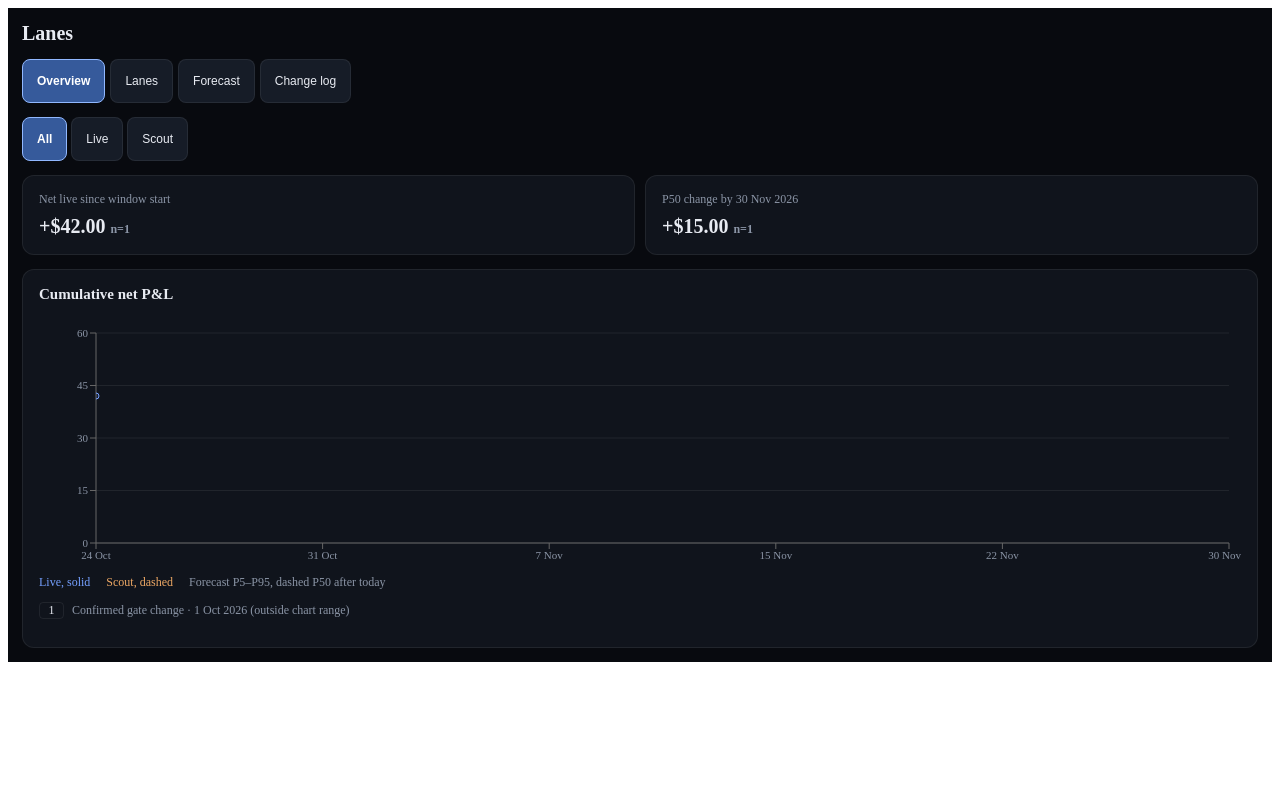
Test: LanePerformanceView › renders forecast and change log subviews, including empty snapshots
This screenshot has width=1280, height=800.
What coordinates should you click on to do the following:
click the button "Forecast"
I would click on:
 (216, 81)
Its box is [178, 59, 255, 103].
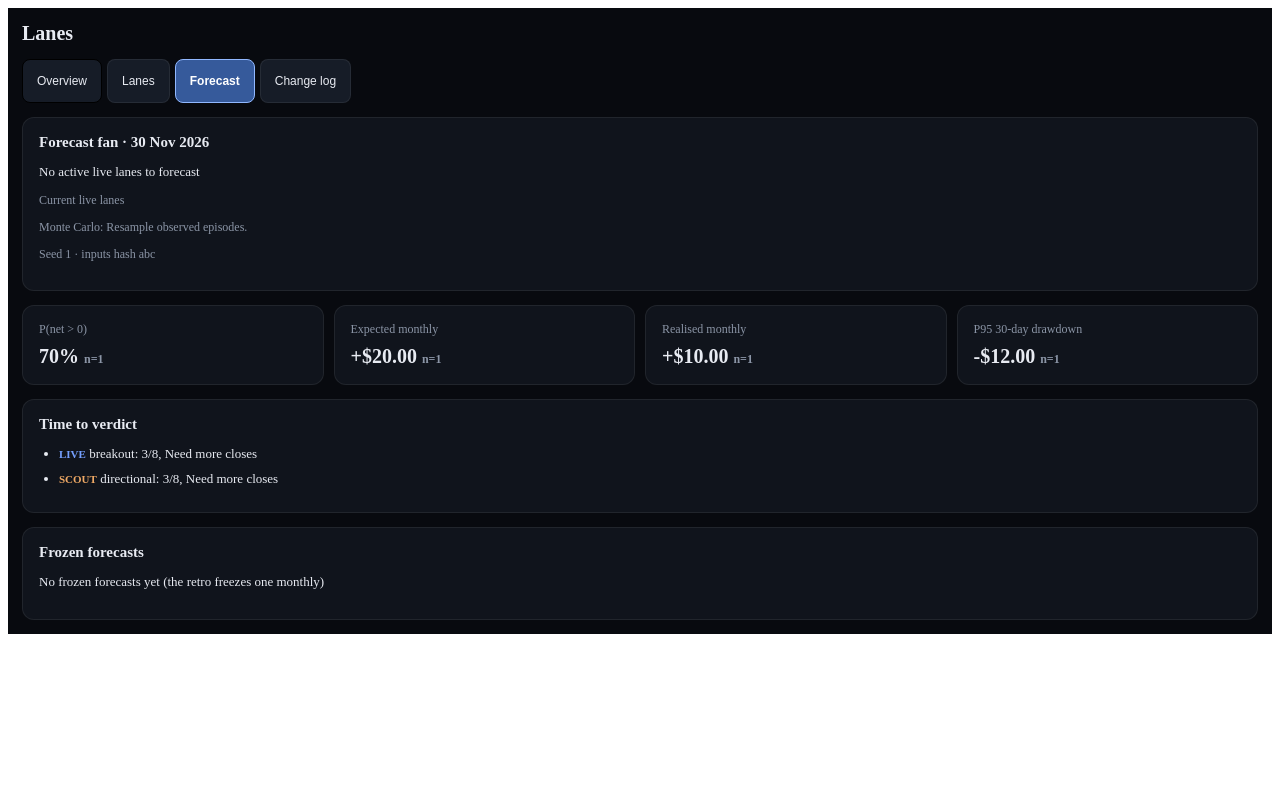
Expected: the text "No frozen forecasts yet (the retro freezes one monthly)" is shown, [39, 574, 324, 589]
Expected: the text "No active live lanes to forecast" is shown, [39, 164, 200, 179]
Expected: the text "Monte Carlo: Resample observed episodes." is shown, [39, 220, 247, 234]
What coordinates should you click on to do the following:
click the button "Change log"
I would click on:
 (306, 81)
Its box is [260, 59, 351, 103].
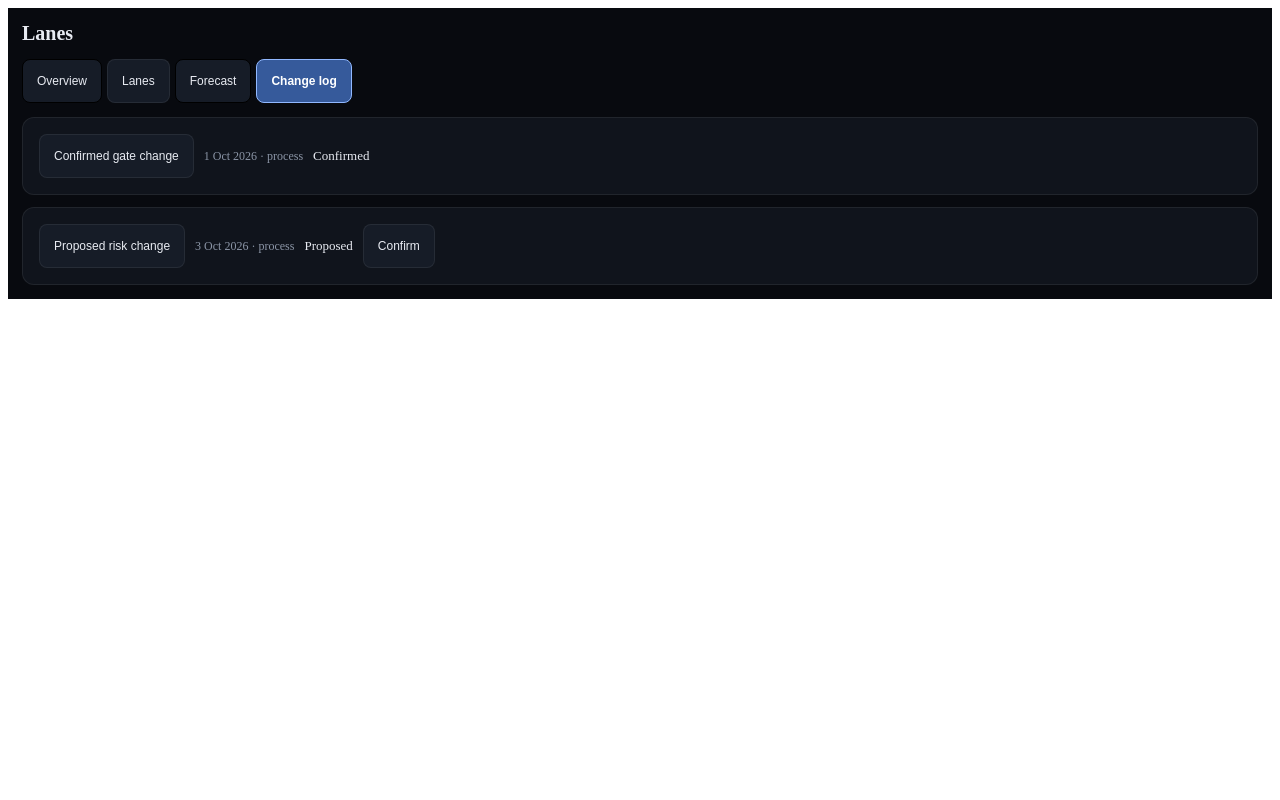
Expected: the number of elements with test id "marker-row" is 2, [22, 117, 1258, 195]; [22, 207, 1258, 285]
Expected: the button "Proposed risk change" is shown, [39, 224, 185, 268]
